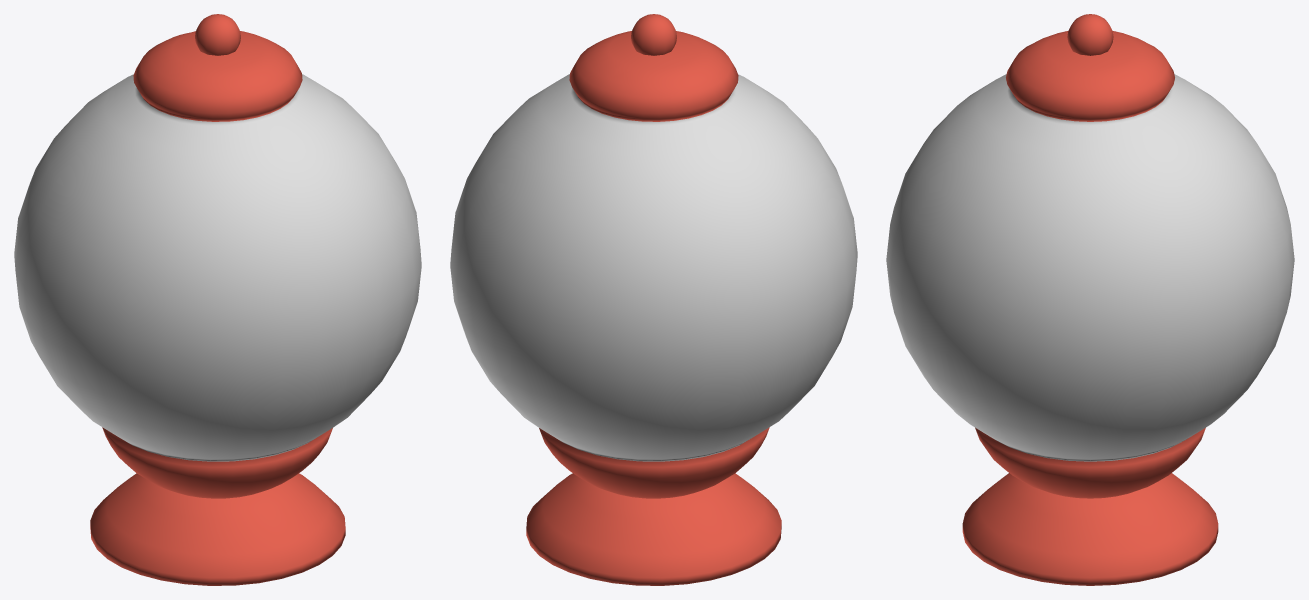
Rendered from CandySlot.fbx.
3 renders of one model, left to right at view 1: azimuth 30°, elevation 25°; view 2: azimuth 150°, elevation 25°; view 3: azimuth 270°, elevation 25°, orthographic.
Visible parts, largest first — view 1: CandySlot; view 2: CandySlot; view 3: CandySlot.
Part boxes in pixels (left/top/right/bottom): CandySlot: left=14, top=14, right=421, bottom=585; CandySlot: left=450, top=14, right=857, bottom=585; CandySlot: left=886, top=14, right=1294, bottom=585.
Size of the model in its own units: 11.52 by 16.05 by 11.52.
